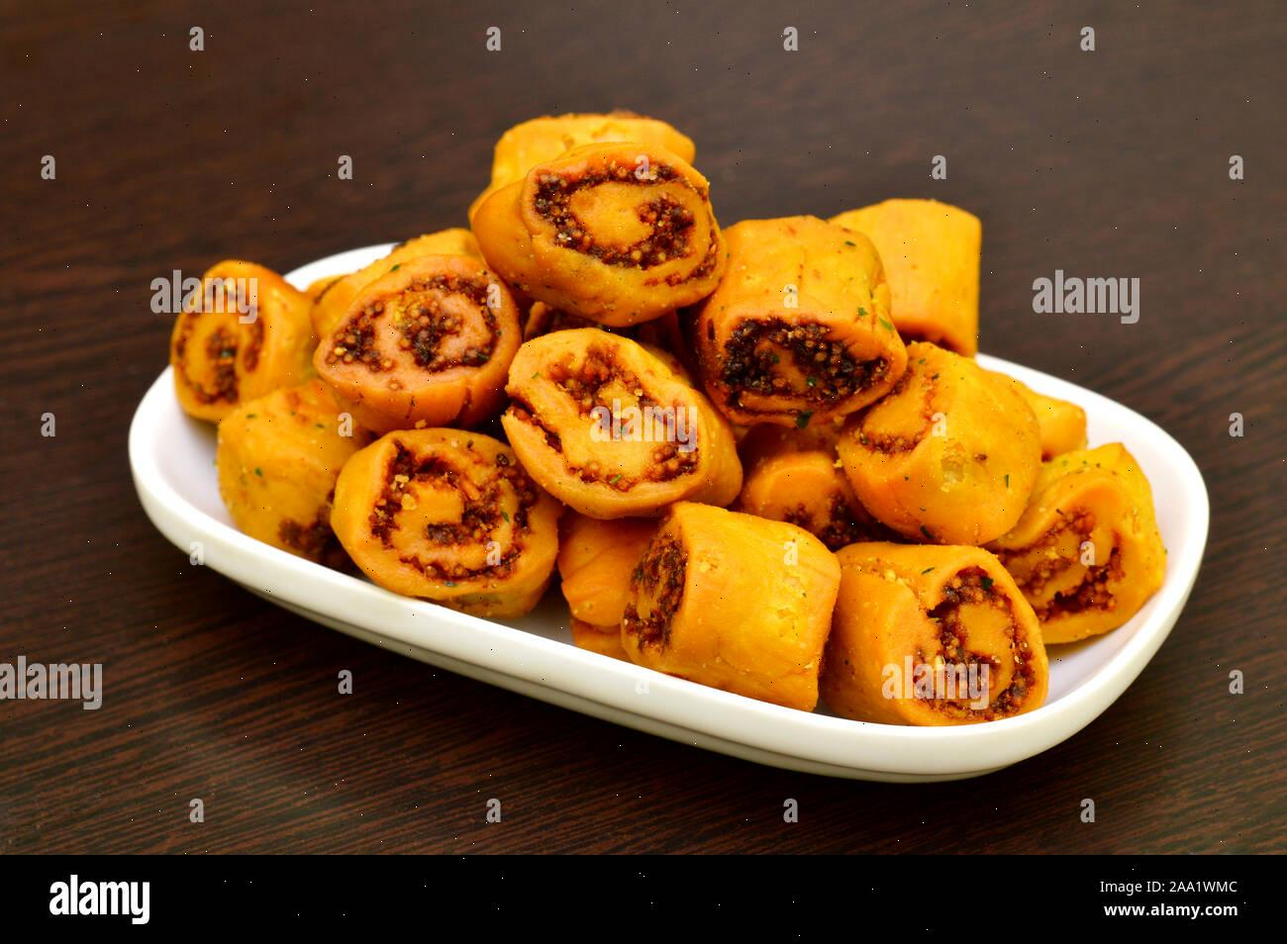bhakarwadi: (168, 121, 1145, 732)
